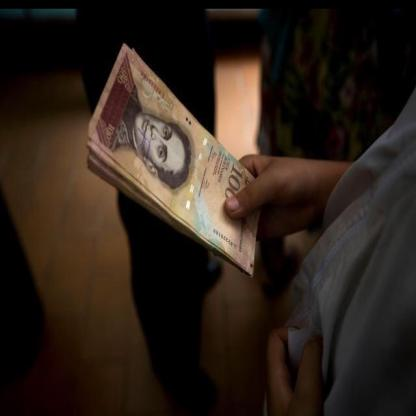billete: (85, 43, 260, 276)
